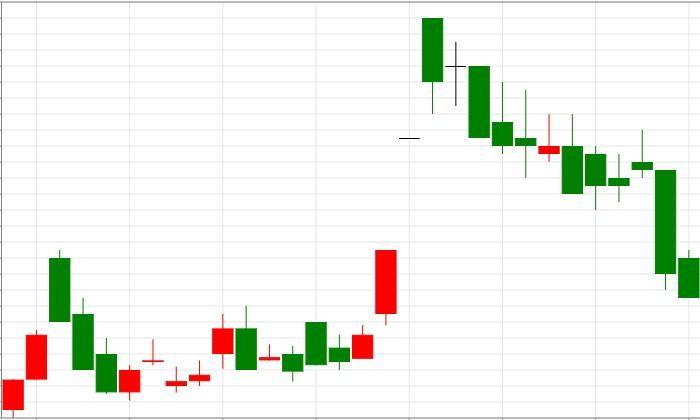bearish_engulfing_fall: (165, 306, 257, 393)
